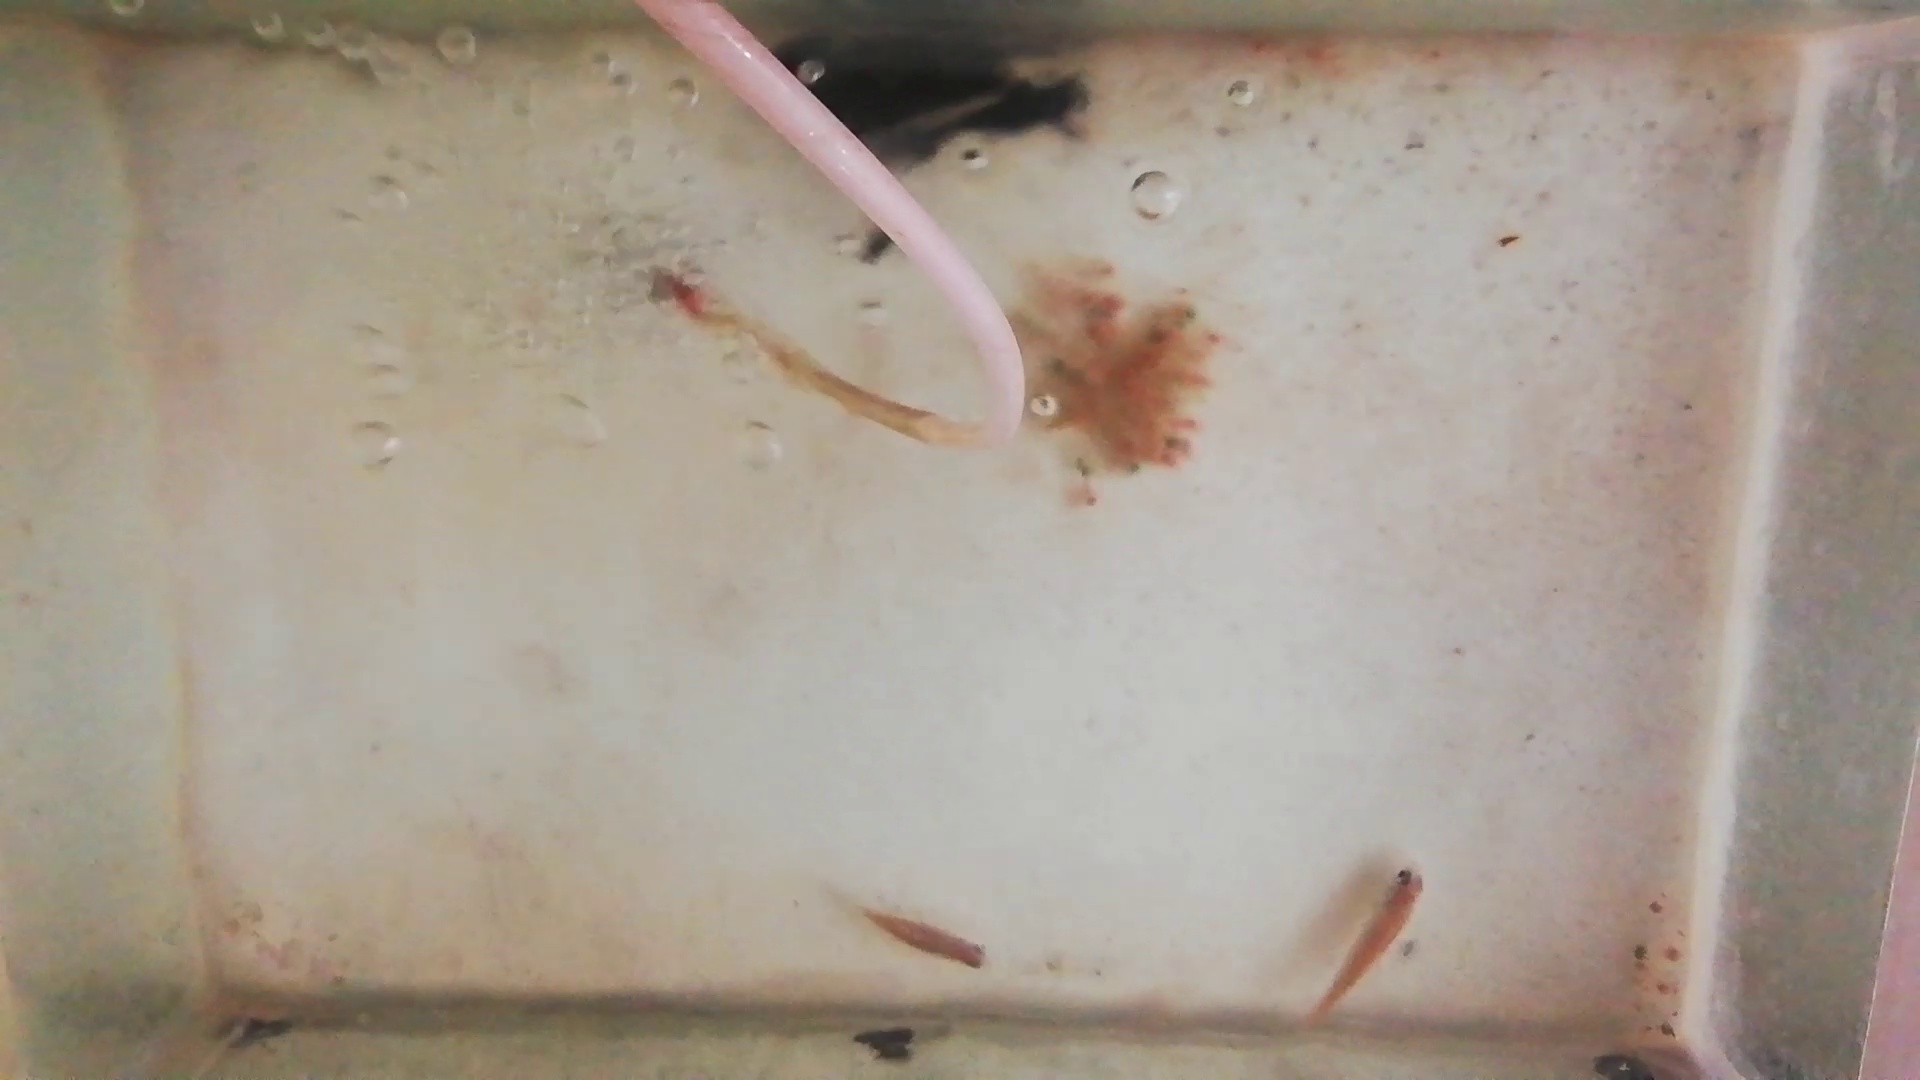fish: (1315, 865, 1432, 1011), (855, 906, 990, 975)
